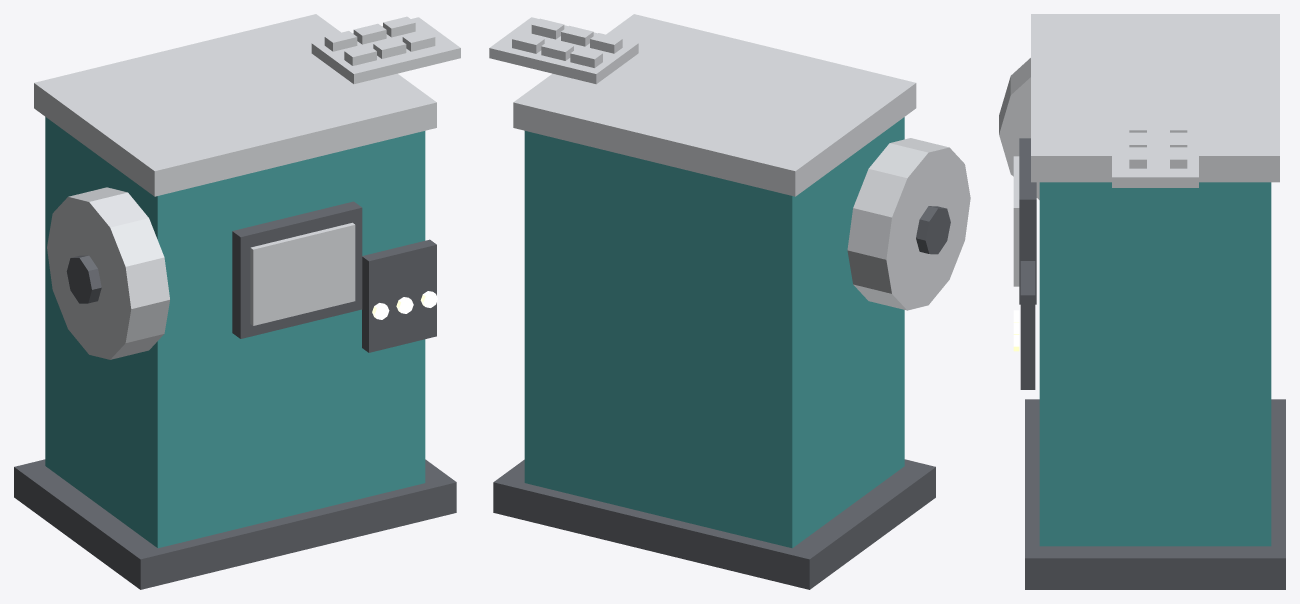
File: chocolate-and-confectionery-factory-foil-wrapping-mach-d3ddcec1__36783.glb
The picture shows the model from 3 angles, left to right: view 1: azimuth 30°, elevation 25°; view 2: azimuth 150°, elevation 25°; view 3: azimuth 270°, elevation 25°; orthographic projection. The views are drawn at different scales.
Visible parts, largest first — view 1: foil-wrapping-machine, reel-foil/steel, reel-foil/dark; view 2: foil-wrapping-machine, reel-foil/steel, reel-foil/dark; view 3: foil-wrapping-machine, reel-foil/steel.
Boxes of the visible parts, x1,y1,x2,y2 form: foil-wrapping-machine: (14,14,460,589); reel-foil/steel: (47,187,169,359); reel-foil/dark: (66,255,101,303); foil-wrapping-machine: (489,14,935,589); reel-foil/steel: (847,138,970,310); reel-foil/dark: (916,206,950,254); foil-wrapping-machine: (1013,14,1285,589); reel-foil/steel: (999,58,1039,199).
Size of the model in its own units: 1.62 by 1.69 by 0.99.
